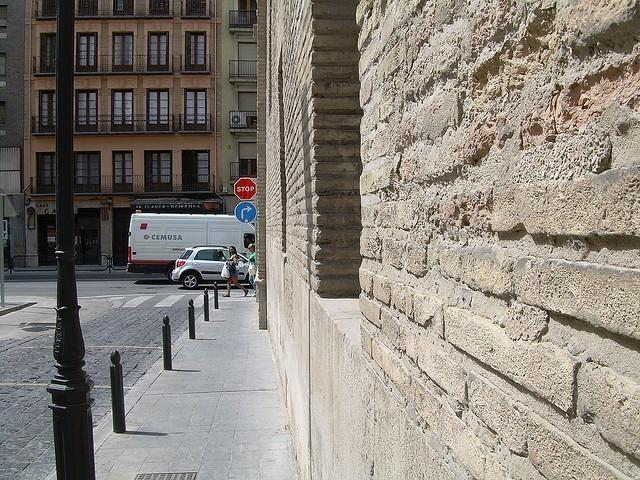car: (172, 246, 252, 290)
truck: (122, 209, 255, 282)
